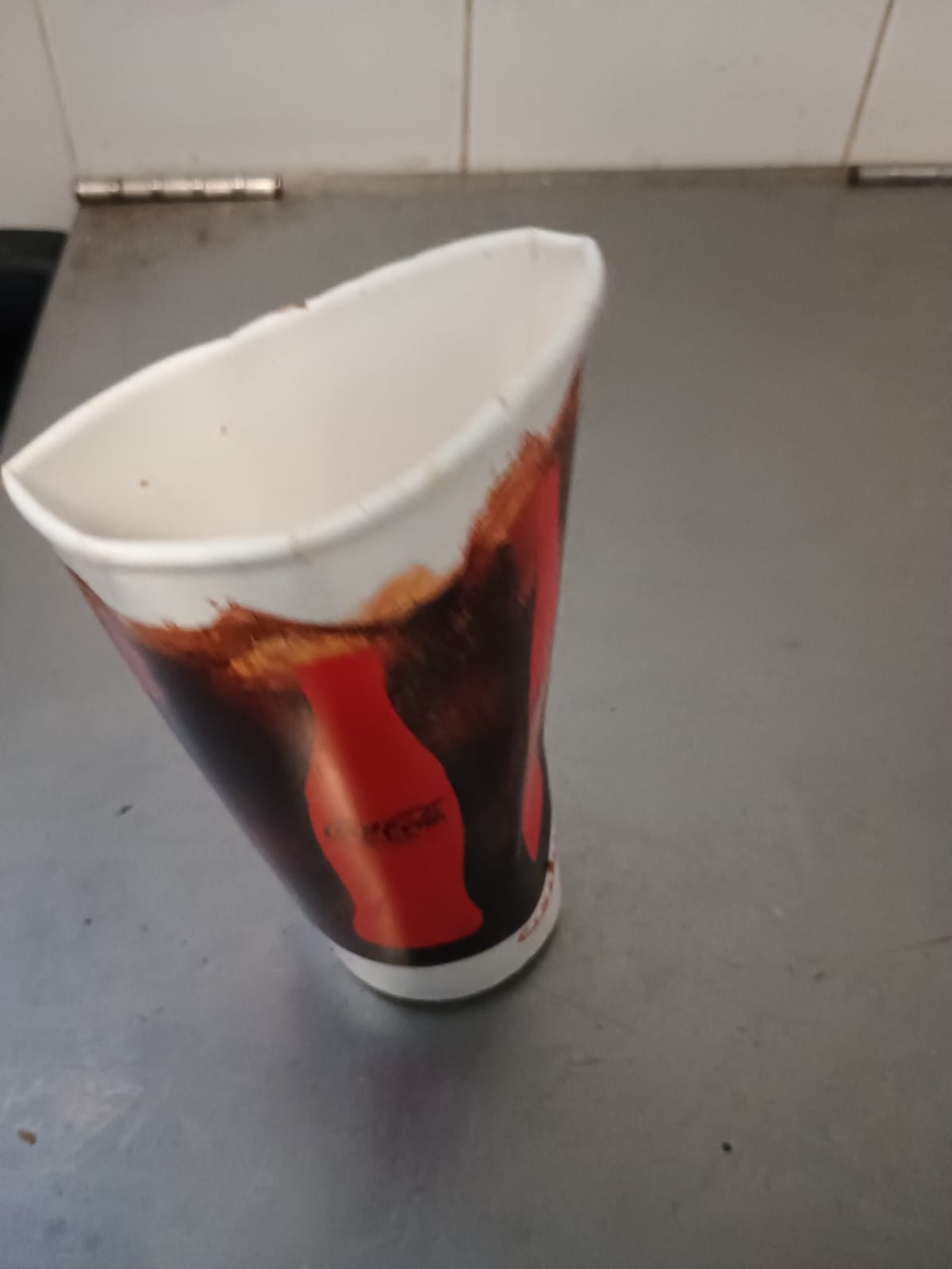Carton: (4, 228, 607, 1002)
